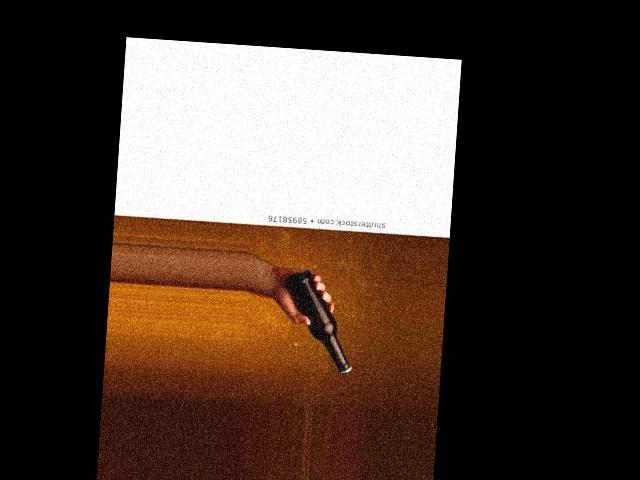beer: (276, 268, 359, 375)
